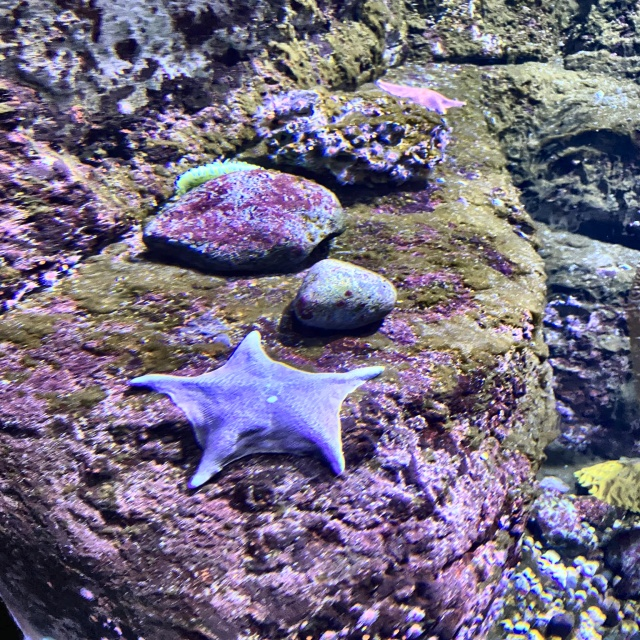starfish: (129, 332, 384, 487)
